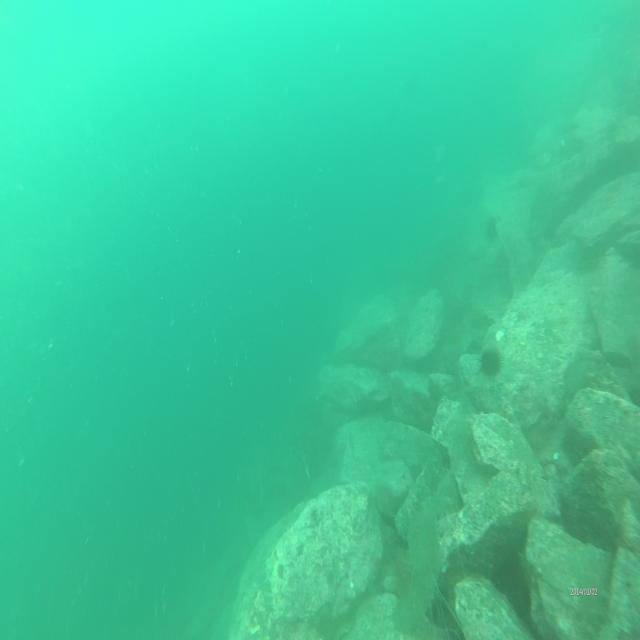echinus: (478, 342, 504, 380), (485, 213, 499, 245)
